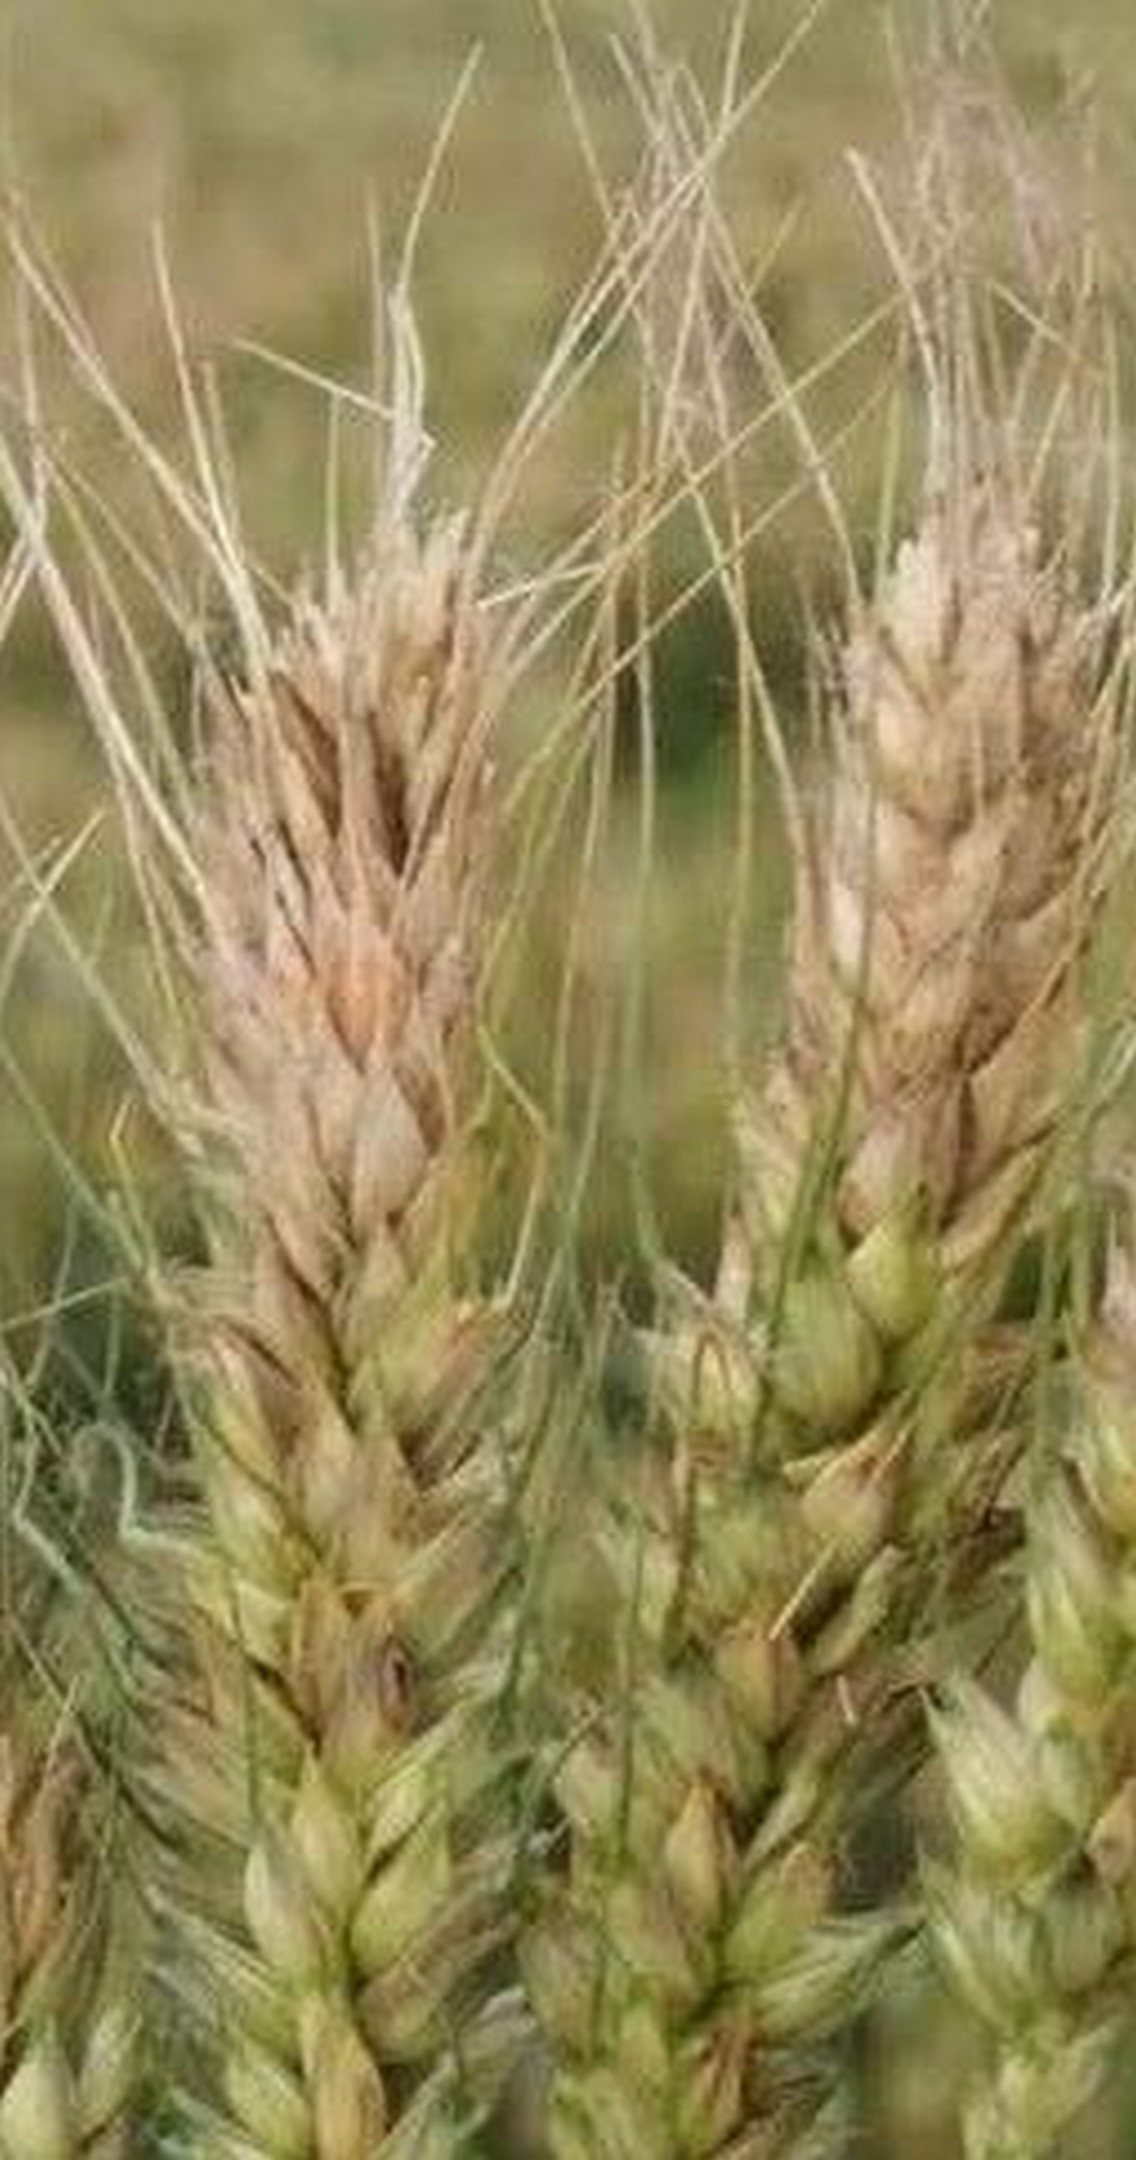Wheat scab: (569, 510, 1123, 2131), (119, 503, 549, 2160)
